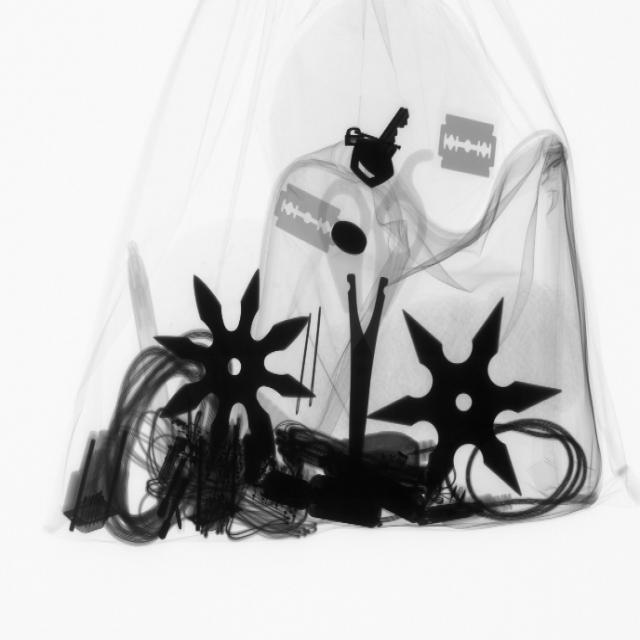BLADE: (273, 179, 347, 259), (435, 107, 504, 186)
SHURIKEN: (379, 296, 555, 504), (158, 265, 316, 471)
